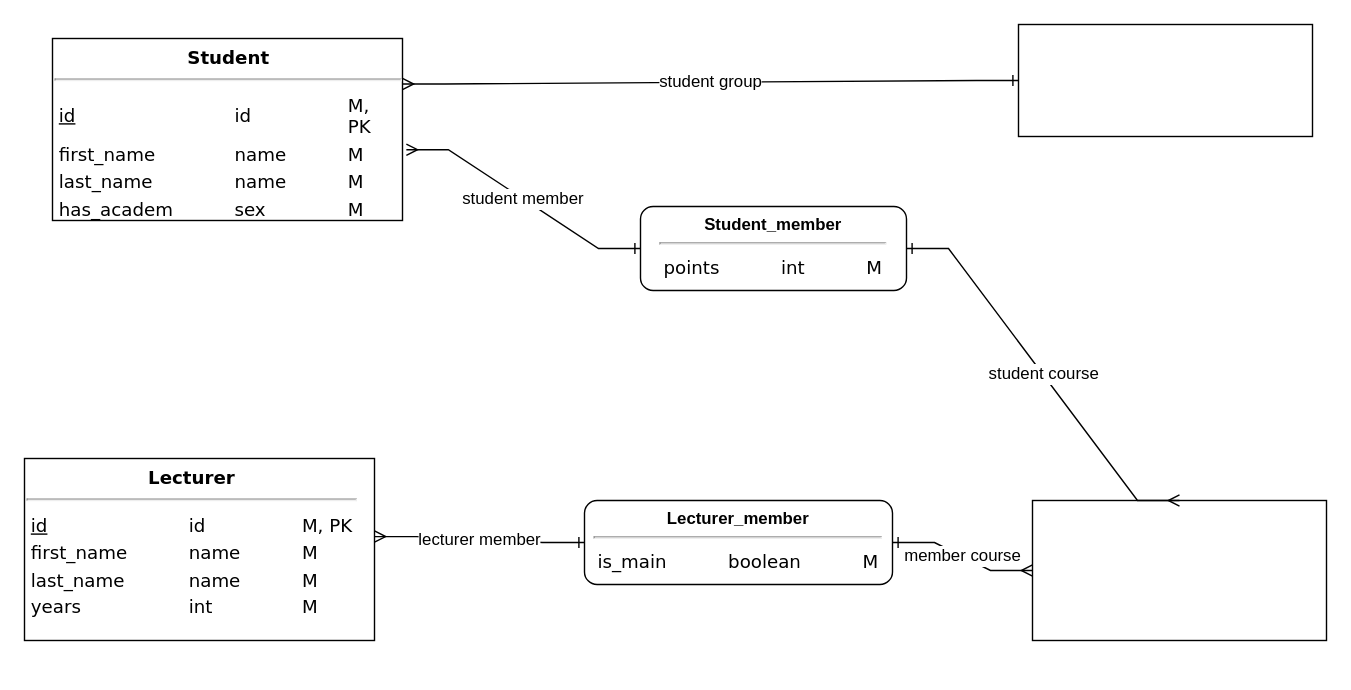
This 1351x690 diagram has some shape labels left out. The shapes that lost their labels are listed below. From the top down, each one's centre as x and y in pixels, then its label:
point (1164, 79): Group id id M, PK name name M
point (1178, 569): Course id id M, PK name name M term int M
